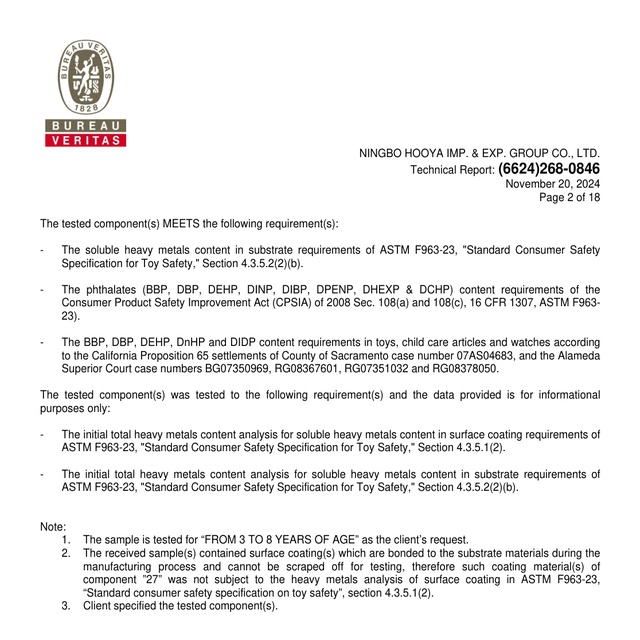bureau_veritas: (43, 38, 128, 151)
